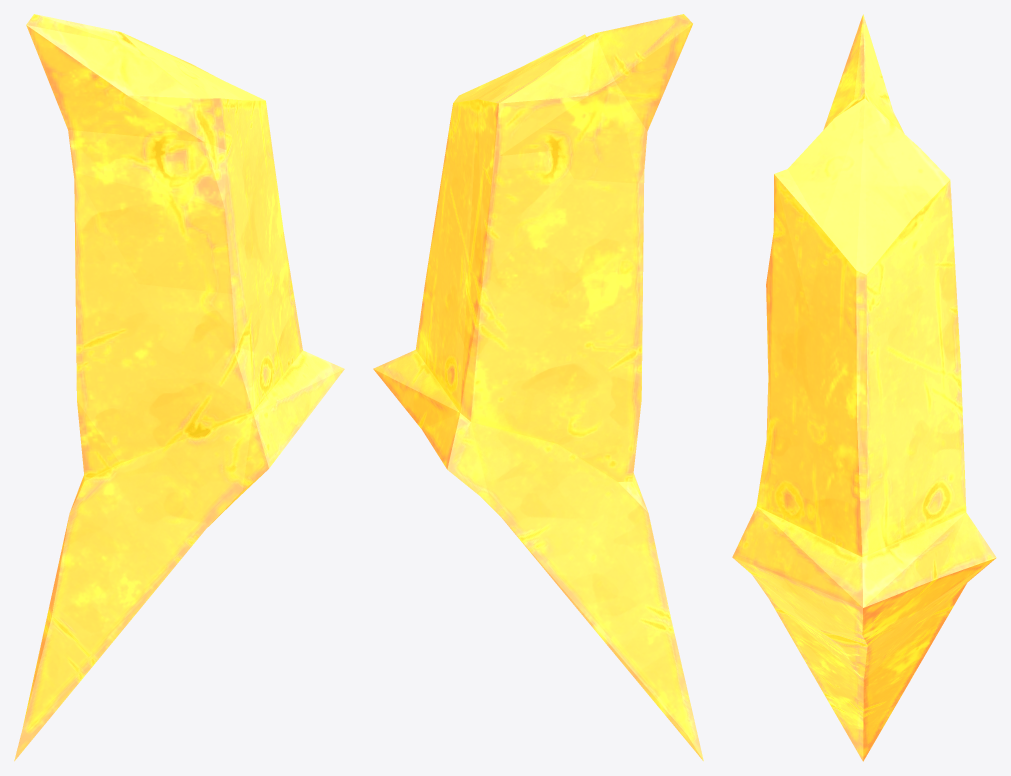
File: FSpikeBHalf.fbx
The picture shows the model from 3 angles, left to right: view 1: azimuth 30°, elevation 25°; view 2: azimuth 150°, elevation 25°; view 3: azimuth 270°, elevation 25°; orthographic projection. The views are drawn at different scales.
Visible parts, largest first — view 1: HL_Fortress_Spike_A_Half_B.mo; view 2: HL_Fortress_Spike_A_Half_B.mo; view 3: HL_Fortress_Spike_A_Half_B.mo.
Boxes of the visible parts, bbox=[...] form: HL_Fortress_Spike_A_Half_B.mo: bbox=[14, 14, 344, 761]; HL_Fortress_Spike_A_Half_B.mo: bbox=[373, 14, 703, 761]; HL_Fortress_Spike_A_Half_B.mo: bbox=[732, 14, 996, 761].
Bounding box in the file's own units: 272 × 585 × 185.
